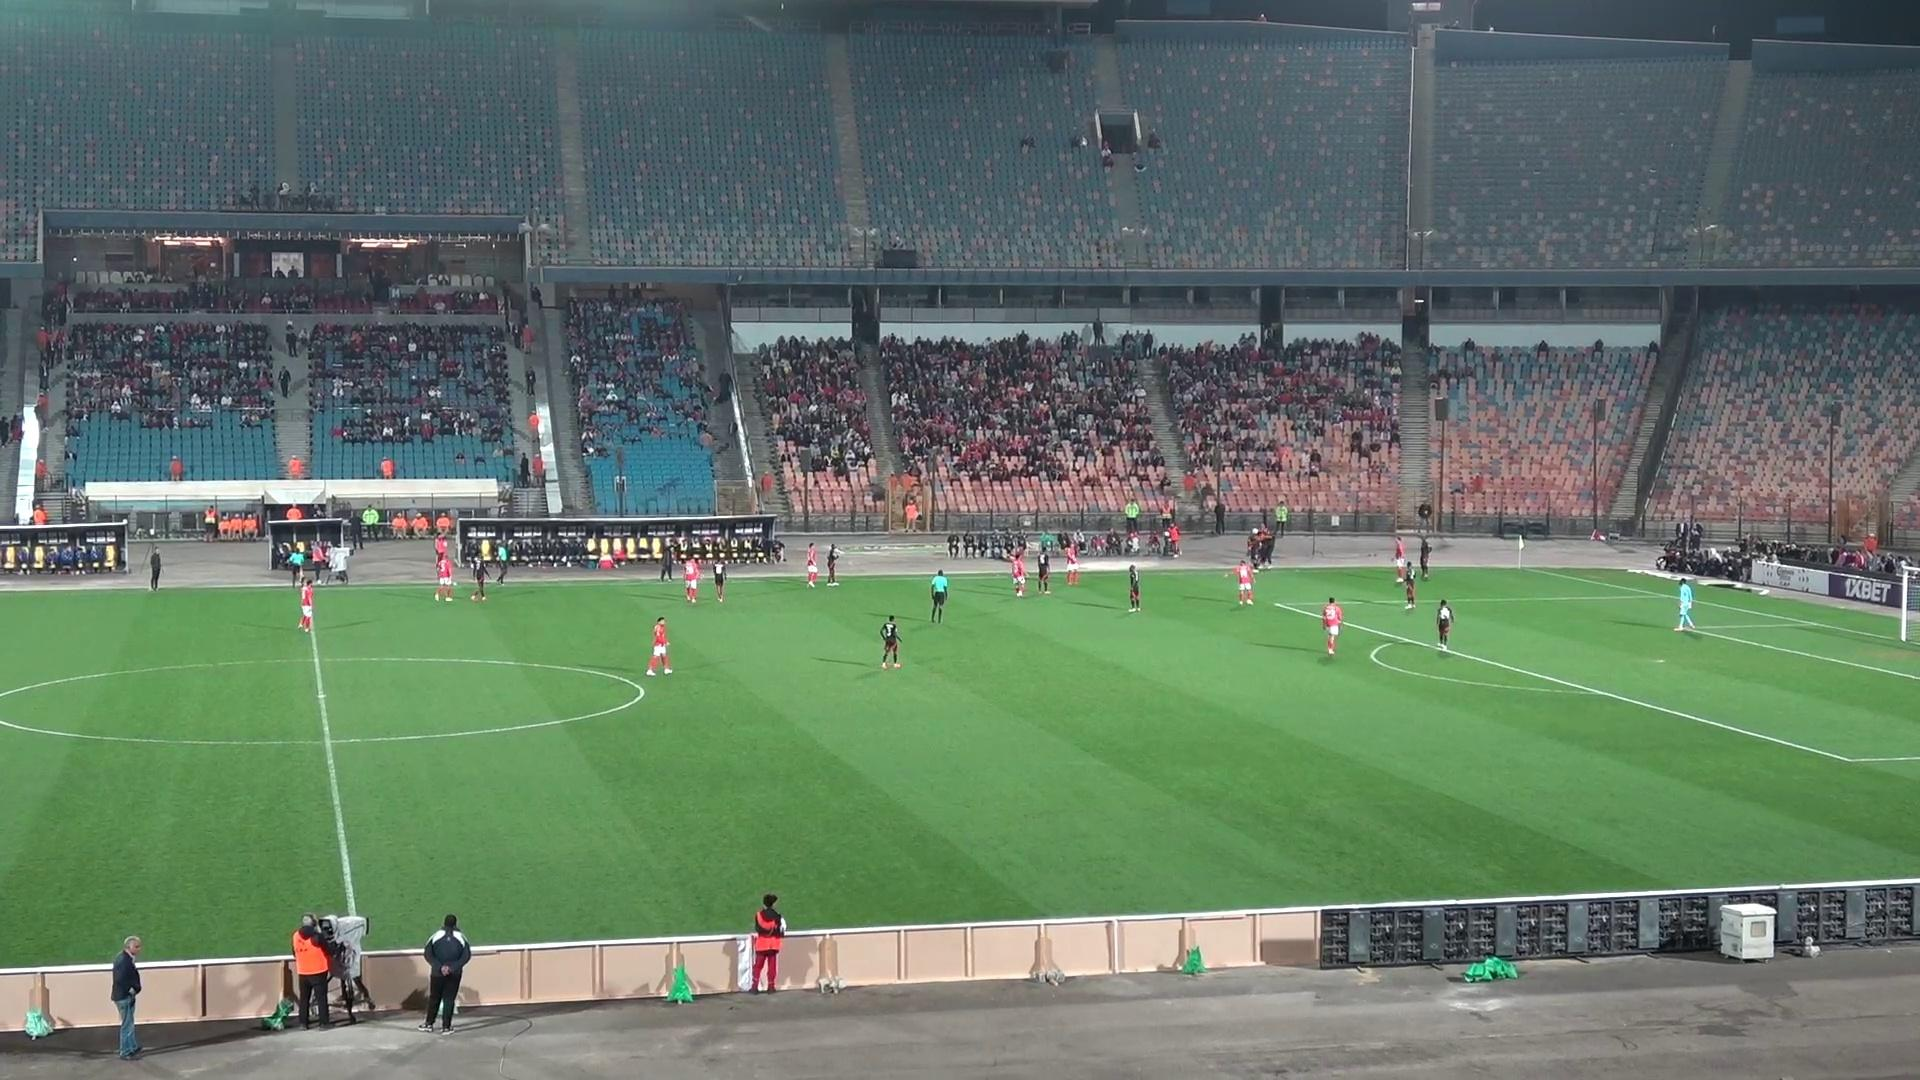GK2: (1673, 576, 1695, 630)
Refree: (282, 541, 311, 588), (928, 568, 948, 622), (491, 537, 510, 584)
Team1: (1319, 596, 1344, 658), (645, 618, 671, 676), (294, 582, 319, 632), (680, 553, 702, 604), (434, 551, 454, 601), (1063, 537, 1081, 585), (1232, 560, 1251, 604), (1010, 546, 1026, 597), (1391, 535, 1407, 582), (804, 543, 820, 587)
Team2: (1395, 560, 1429, 609), (462, 549, 487, 601), (878, 615, 901, 669), (1436, 599, 1455, 650), (1035, 537, 1050, 595), (1125, 563, 1142, 612), (713, 549, 728, 603), (825, 543, 840, 585), (1419, 533, 1432, 578)
